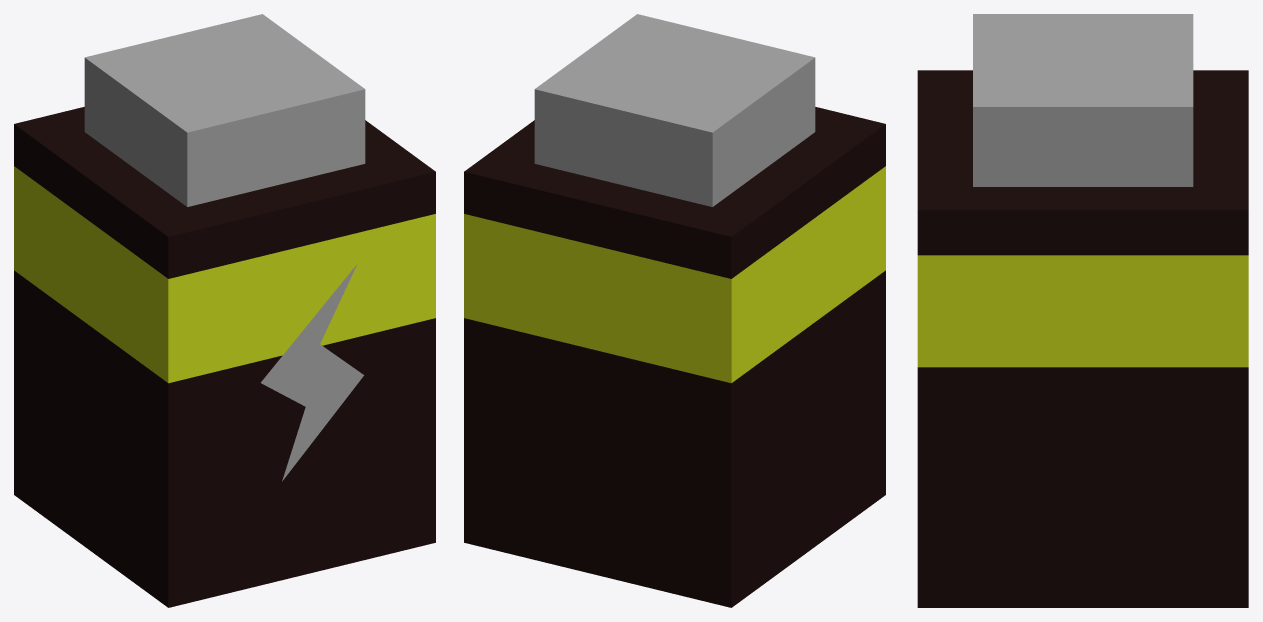
Rendered from battery.fbx.
The picture shows the model from 3 angles, left to right: view 1: azimuth 30°, elevation 25°; view 2: azimuth 150°, elevation 25°; view 3: azimuth 270°, elevation 25°; orthographic projection. The views are drawn at different scales.
Visible parts, largest first — view 1: 배터리; view 2: 배터리; view 3: 배터리.
Part boxes in pixels (left/top/right/bottom): 배터리: left=14, top=14, right=435, bottom=607; 배터리: left=464, top=14, right=885, bottom=607; 배터리: left=917, top=14, right=1248, bottom=607.
Size of the model in its own units: 67.2 by 107 by 67.85.
